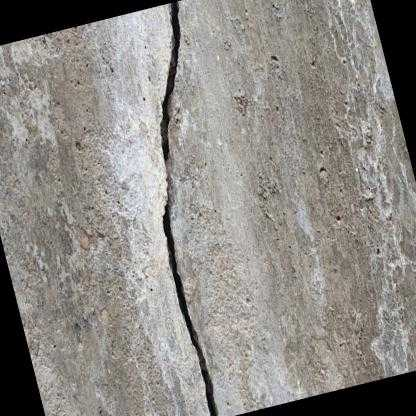crack: (160, 1, 218, 416)
